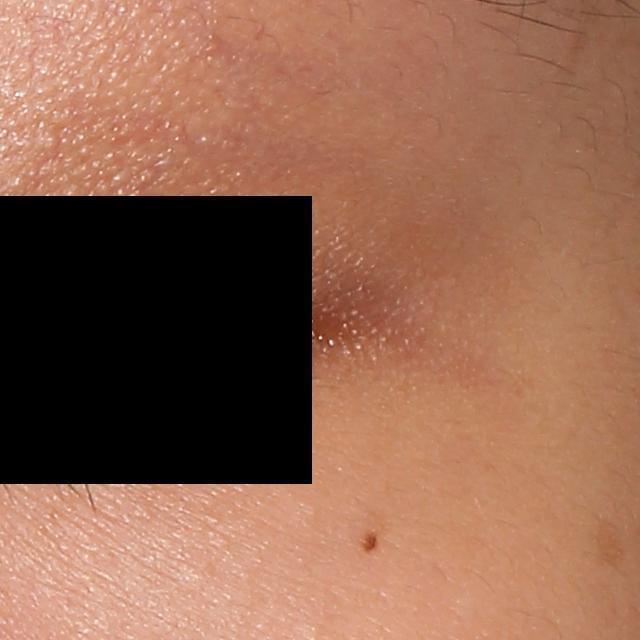melasma: (592, 515, 629, 574)
nevus: (360, 529, 376, 552)
